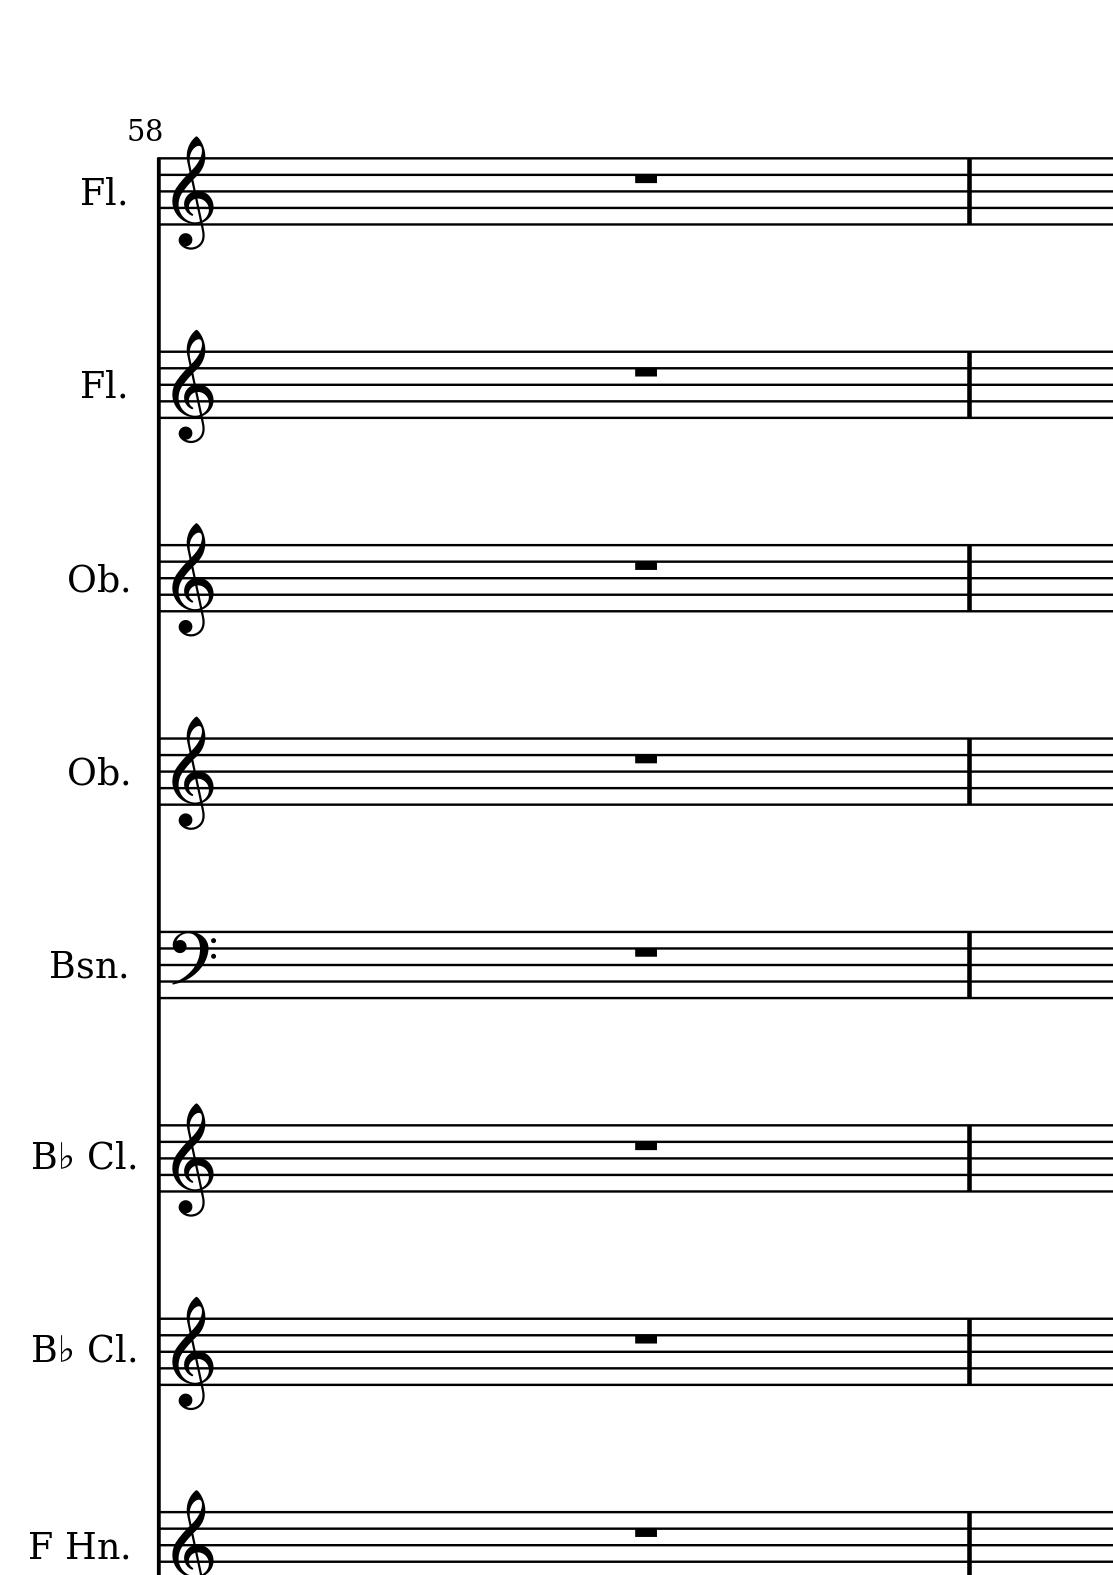5: (126, 117, 145, 144)
8: (145, 117, 161, 143)
Bsn: (48, 950, 116, 983)
Cl: (86, 1328, 124, 1373), (84, 1140, 130, 1175)
Fclef: (170, 928, 216, 999)
Fl: (73, 171, 120, 211), (75, 360, 117, 400)
Gclef: (167, 1294, 220, 1410), (170, 328, 218, 444), (171, 134, 216, 254), (170, 1102, 216, 1219), (172, 715, 214, 832), (172, 521, 214, 637)
Hn: (64, 1524, 120, 1564)
Ob: (66, 748, 117, 797), (72, 555, 114, 598)
Rests1: (630, 940, 665, 961), (631, 747, 661, 769), (631, 1135, 664, 1156), (631, 361, 662, 381), (631, 1328, 662, 1347), (630, 556, 662, 574), (632, 1521, 661, 1540), (631, 170, 661, 188)
Single_barline: (959, 931, 985, 999), (145, 932, 172, 996), (956, 158, 982, 225), (959, 1317, 983, 1385), (956, 1123, 979, 1192), (956, 350, 980, 415), (956, 738, 979, 806), (151, 544, 172, 610), (149, 1125, 170, 1192), (151, 1317, 171, 1384), (960, 545, 980, 610), (154, 350, 172, 421), (151, 738, 169, 804), (152, 158, 167, 228)
